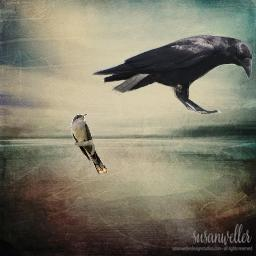Crow: (90, 34, 253, 114)
Cuckoo: (71, 114, 107, 174)
